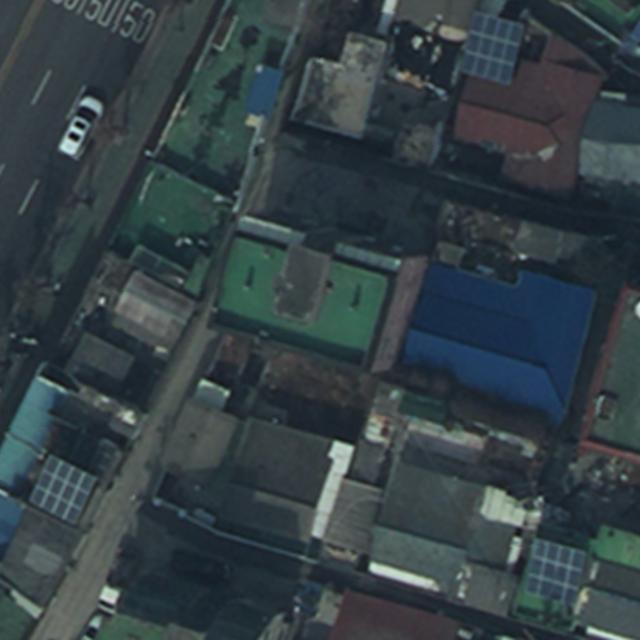panel: (27, 452, 97, 523), (460, 11, 522, 84), (522, 537, 586, 602)
